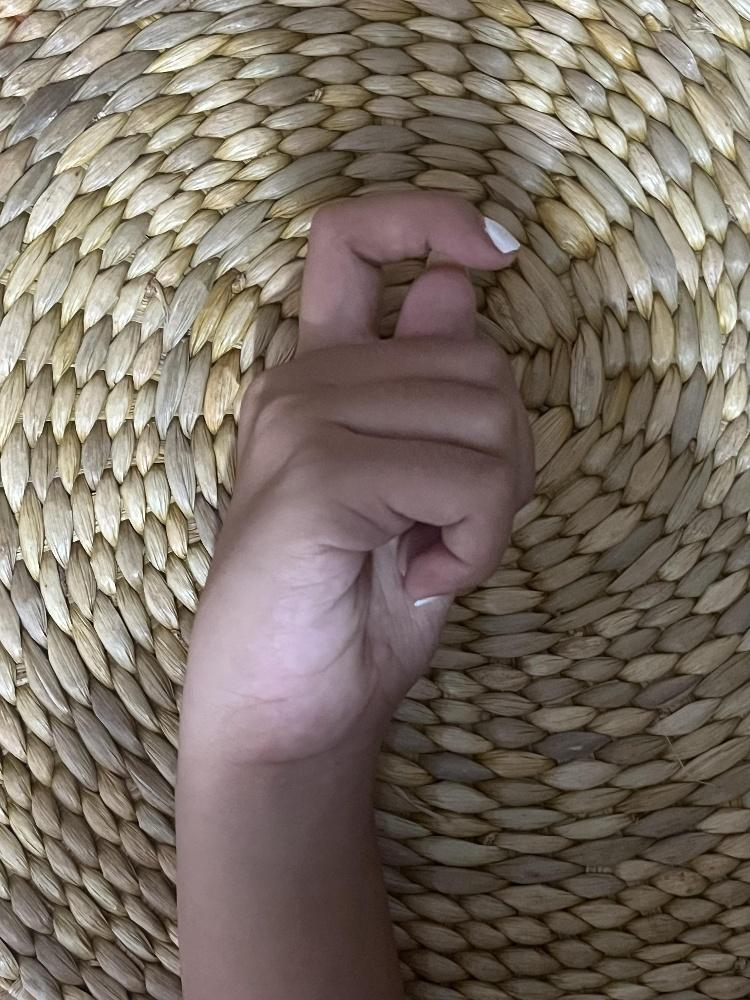t: (170, 186, 532, 763)
